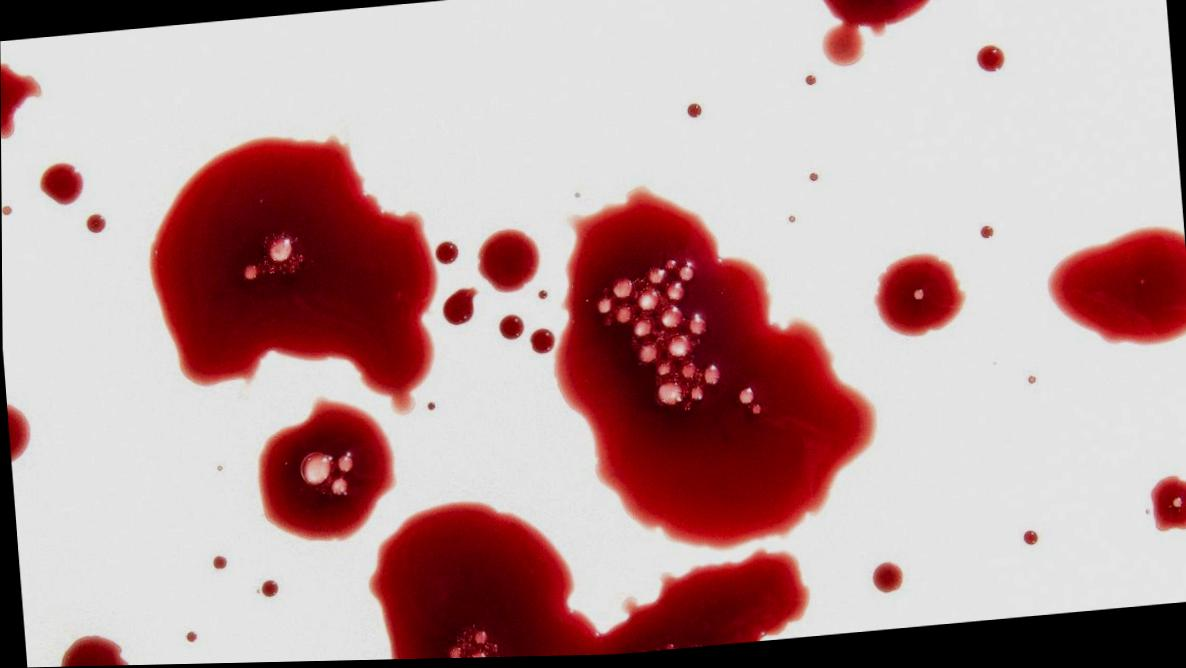Fire: (552, 187, 876, 552), (149, 137, 438, 416), (367, 502, 809, 661), (257, 397, 395, 542), (1046, 231, 1186, 349), (820, 0, 933, 70), (873, 256, 965, 340), (476, 229, 540, 294), (0, 62, 41, 139), (60, 634, 128, 667), (1149, 480, 1186, 536), (38, 162, 84, 205), (6, 402, 30, 462), (441, 289, 478, 326), (871, 565, 903, 596), (976, 48, 1005, 76), (529, 329, 554, 356), (498, 316, 524, 341), (435, 242, 458, 266), (261, 580, 278, 598), (212, 556, 226, 569)
